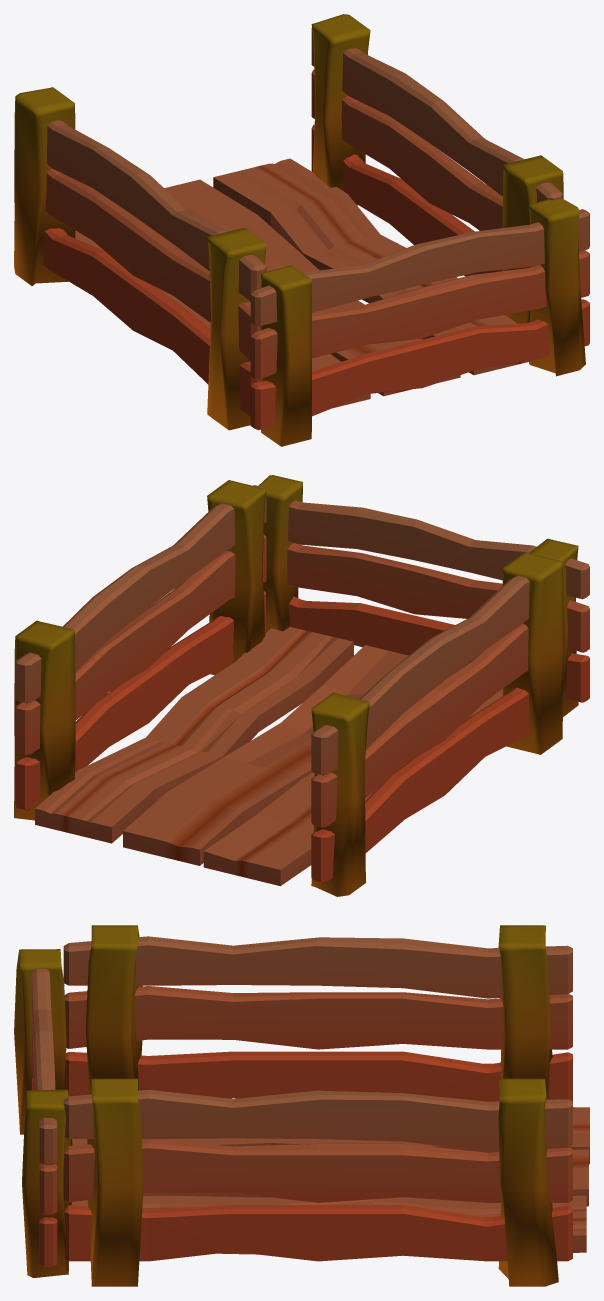
Rendered from СЕГМЕНТ ТУПИК.fbx.
3 views of the same model, one above another, from view 1: azimuth 30°, elevation 25°; view 2: azimuth 150°, elevation 25°; view 3: azimuth 270°, elevation 25° (orthographic). The views are drawn at different scales.
Parts seen in each view (by area): view 1: Cube.010, Cube.012, Cube.011; view 2: Cube.010, Cube.011, Cube.012; view 3: Cube.010, Cube.012, Cube.011.
Boxes of the visible parts, bbox=[...] form: Cube.010: bbox=[14, 14, 563, 430]; Cube.012: bbox=[250, 198, 589, 446]; Cube.011: bbox=[75, 158, 538, 407]; Cube.010: bbox=[14, 480, 563, 896]; Cube.011: bbox=[35, 627, 502, 886]; Cube.012: bbox=[258, 475, 589, 716]; Cube.010: bbox=[63, 925, 572, 1286]; Cube.012: bbox=[14, 949, 72, 1277]; Cube.011: bbox=[71, 1107, 589, 1254].
Size of the model in its own units: 831 by 414 by 1137.
